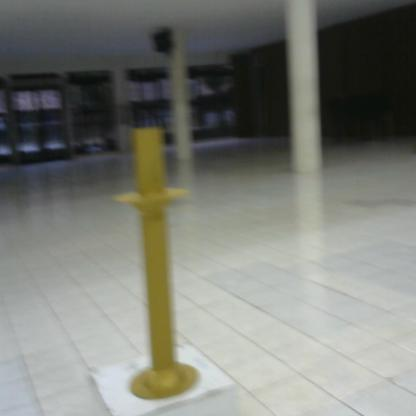pole: (109, 116, 209, 407)
